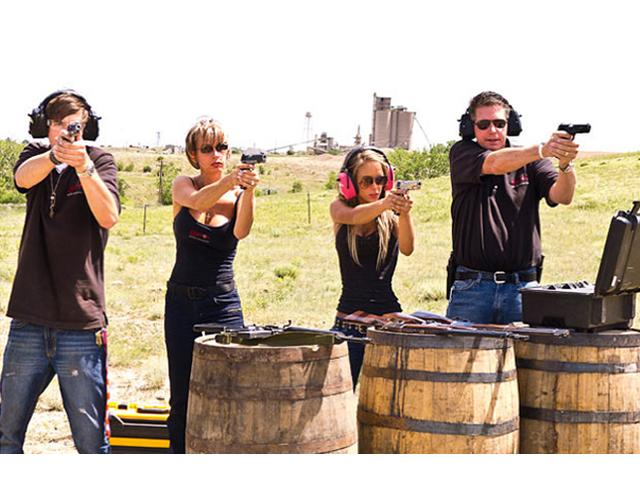pistol: (553, 123, 591, 162), (393, 179, 423, 216), (239, 152, 266, 186), (66, 122, 82, 157)
